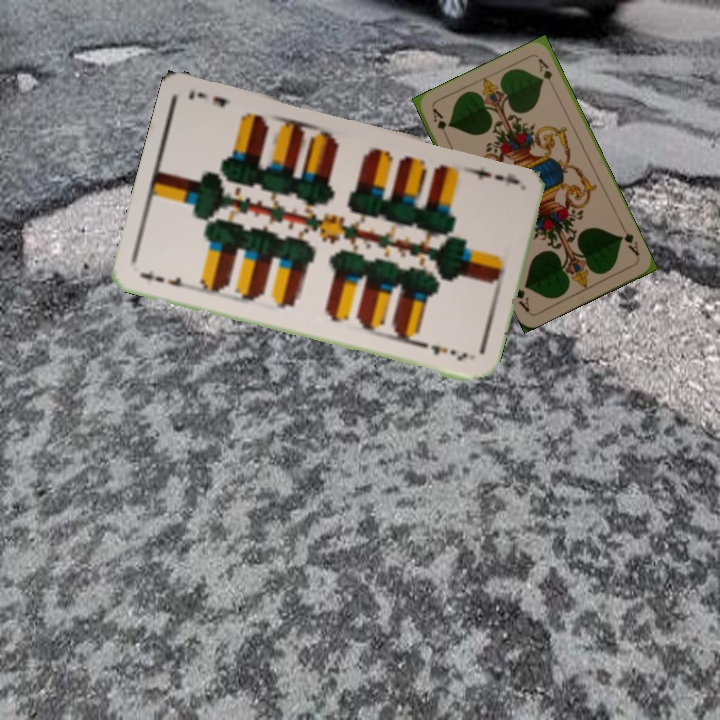E7: (135, 268, 194, 292), (463, 163, 522, 187)
GA: (616, 222, 642, 261), (428, 104, 451, 143)
